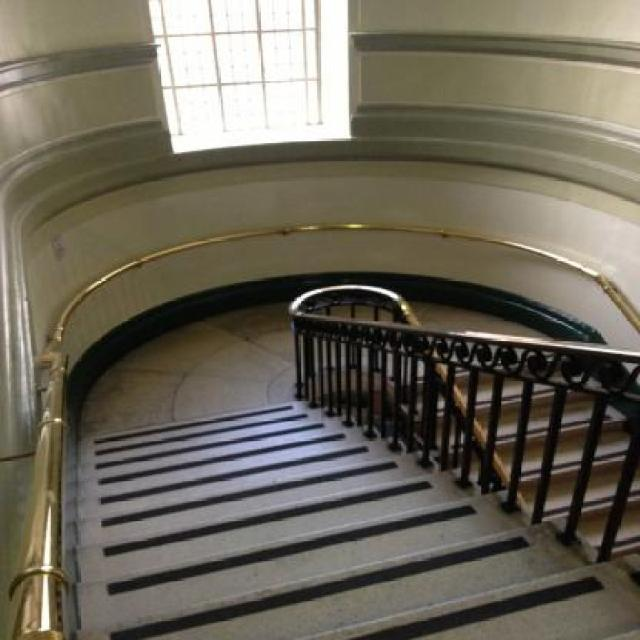stair: (77, 394, 640, 640), (392, 350, 640, 562)
